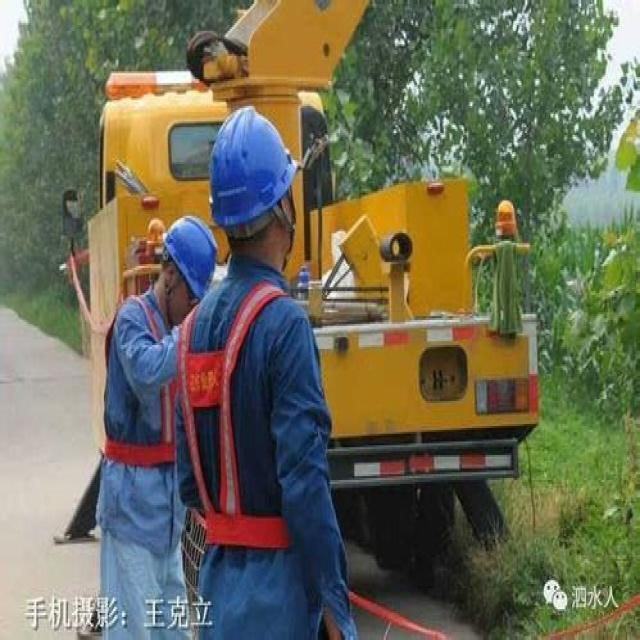helmet: (209, 129, 305, 368), (153, 280, 218, 424)
